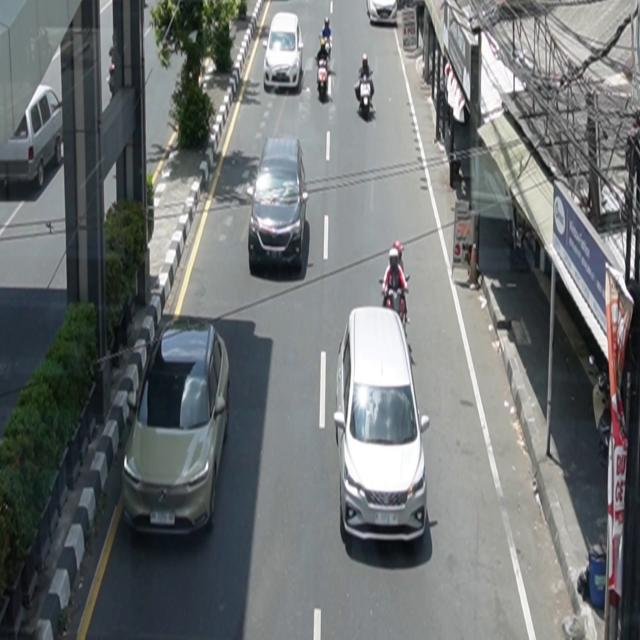car: (122, 315, 231, 539), (334, 306, 431, 545), (248, 136, 309, 273), (1, 84, 64, 191), (264, 12, 305, 93), (367, 1, 398, 26)
